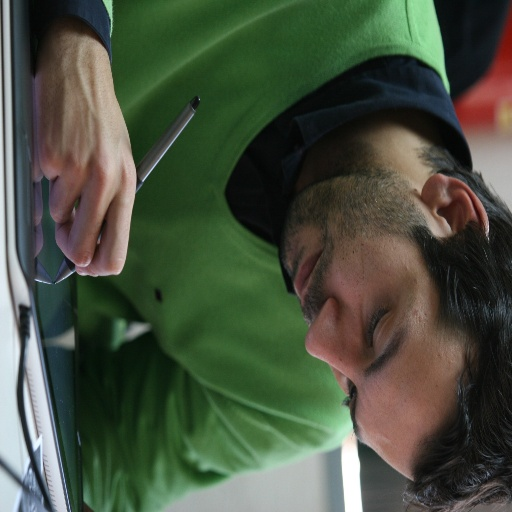hand: (46, 4, 135, 282)
